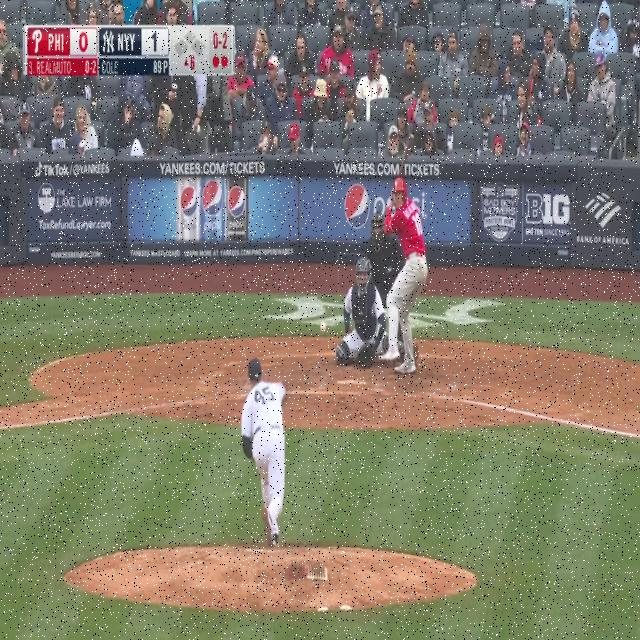baseball: (321, 322, 326, 332)
